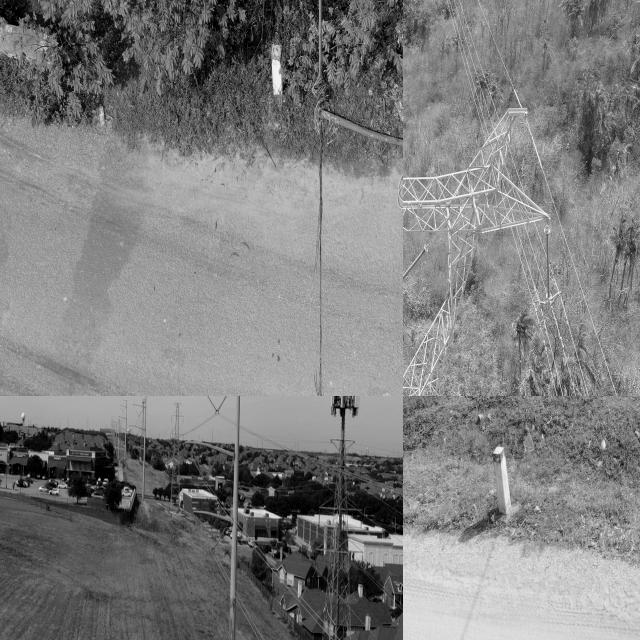杆塔: (403, 91, 565, 396), (315, 433, 361, 640), (168, 400, 185, 513)
正常绝缘子: (403, 244, 429, 285), (542, 221, 554, 304), (210, 396, 236, 424), (202, 396, 223, 422)
电缆破损: (297, 58, 343, 396)
